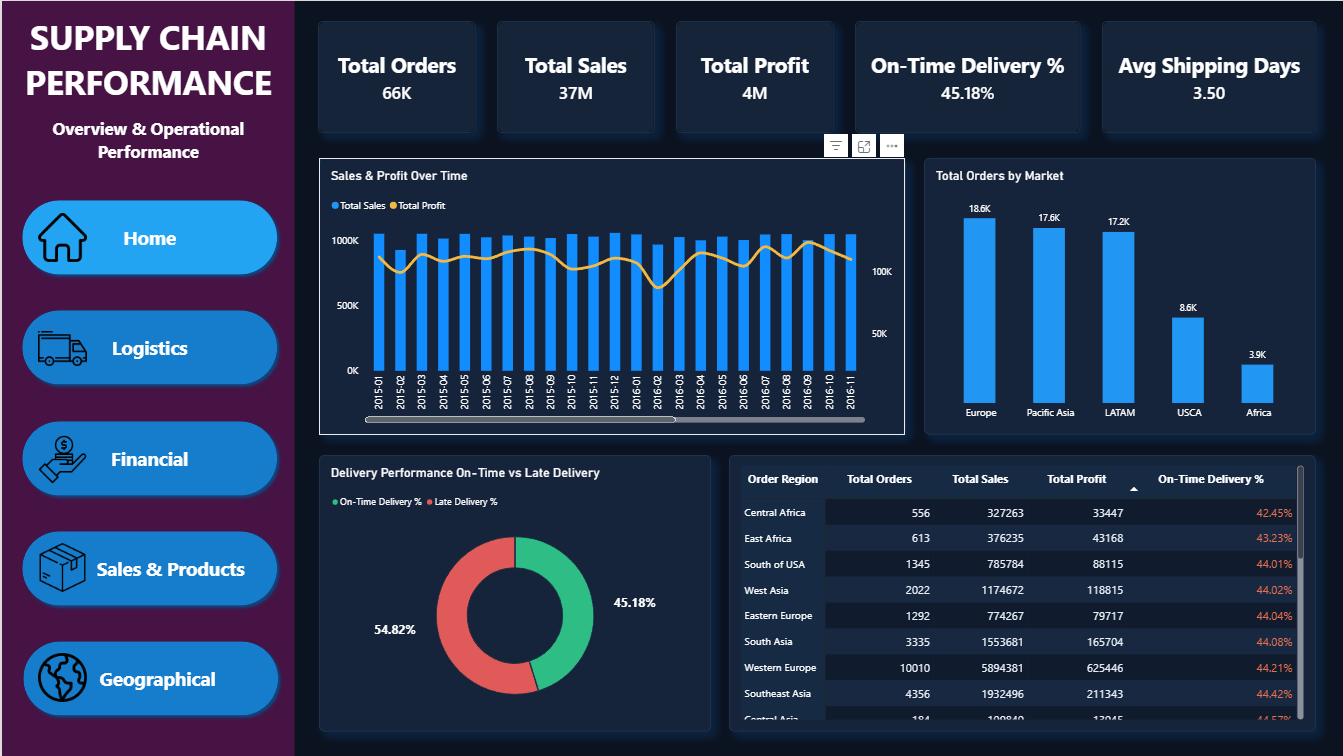

Layout of this report page (visuals, bound fields, positions):
{"tool":"powerbi","page":{"name":"Home","canvas":[1920,1080],"ordinal":0},"visuals":[{"type":"shape","box":[0,0,1920,1080],"z":0},{"type":"shape","box":[0,0,418,1080],"z":1000},{"type":"cardVisual","title":"Total Orders","fields":{"Data":["Medidas.Total Orders"]},"box":[452,28,225,160],"z":2000},{"type":"shape","box":[20,433.5,382,124],"z":2000,"group":"g1"},{"type":"shape","box":[20,591,382,124],"z":2000,"group":"g2"},{"type":"cardVisual","title":"Total Orders","fields":{"Data":["Medidas.Total Sales"]},"box":[707.8,28,225,160],"z":3000},{"type":"shape","box":[20,275.5,382,124],"z":3000,"group":"g5"},{"type":"shape","box":[20,748.5,382,124],"z":3000,"group":"g3"},{"type":"cardVisual","title":"Total Orders","fields":{"Data":["Medidas.Total Profit"]},"box":[963.5,28,225,160],"z":4000},{"type":"shape","box":[22,906,382,124],"z":4000,"group":"g4"},{"type":"cardVisual","title":"Total Orders","fields":{"Data":["Medidas.On-Time Delivery %"]},"box":[1219.2,28,322,160],"z":5000},{"type":"cardVisual","title":"Total Orders","fields":{"Data":["Medidas.Avg Shipping Days"]},"box":[1572,28,306,160],"z":6000},{"type":"textbox","box":[0,18,418,230],"z":7000},{"type":"group","id":"g1","title":"Grupo 2","box":[20,433.5,382,124],"z":8000},{"type":"group","id":"g2","title":"Grupo 3","box":[20,591,382,124],"z":9000},{"type":"group","id":"g3","title":"Grupo 4","box":[20,748.5,382,124],"z":10000},{"type":"image","box":[52,620,70,70],"z":11000,"group":"g2"},{"type":"group","id":"g4","title":"Grupo 5","box":[22,906,382,124],"z":11000},{"type":"lineStackedColumnComboChart","title":"Sales & Profit Over Time","fields":{"Category":["Calendar.Year Month"],"Y":["Medidas.Total Sales"],"Y2":["Medidas.Total Profit"]},"box":[452.4,224.4,838,395],"z":12000},{"type":"image","box":[52,302.5,70,70],"z":12000,"group":"g5"},{"type":"image","box":[52,462,70,70],"z":12000,"group":"g1"},{"type":"image","box":[52,932,70,70],"z":12000,"group":"g4"},{"type":"columnChart","title":"Total Orders by Market","fields":{"Category":["DataCoSupplyChainDataset.Market"],"Y":["Medidas.Total Orders"]},"box":[1317.4,224.4,560,395],"z":13000},{"type":"image","box":[52,774,70,70],"z":13000,"group":"g3"},{"type":"donutChart","title":"Delivery Performance On-Time vs Late Delivery","fields":{"Y":["Medidas.On-Time Delivery %","Medidas.Late Delivery %"]},"box":[452.4,647.9,560,395],"z":14000},{"type":"pivotTable","fields":{"Rows":["DataCoSupplyChainDataset.Order Region"],"Values":["Medidas.Total Orders","Medidas.Total Sales","Medidas.Total Profit","Medidas.On-Time Delivery %"]},"box":[1038.7,647.9,838,395],"z":15000},{"type":"group","id":"g5","title":"Grupo 1","box":[20,275.5,382,124],"z":16000}]}

Visuals, with their boxes in screenshot pixels (x1, y1, x2, y2), scaled from the page's 1920x1080 canvas onto the 1343x756 screenshot:
shape: (x1=0, y1=0, x2=1342, y2=755)
shape: (x1=0, y1=0, x2=292, y2=755)
"Total Orders" cardVisual: (x1=316, y1=20, x2=474, y2=132)
shape: (x1=14, y1=303, x2=281, y2=390)
shape: (x1=14, y1=414, x2=281, y2=500)
"Total Orders" cardVisual: (x1=495, y1=20, x2=652, y2=132)
shape: (x1=14, y1=193, x2=281, y2=280)
shape: (x1=14, y1=524, x2=281, y2=611)
"Total Orders" cardVisual: (x1=674, y1=20, x2=831, y2=132)
shape: (x1=15, y1=634, x2=283, y2=721)
"Total Orders" cardVisual: (x1=853, y1=20, x2=1078, y2=132)
"Total Orders" cardVisual: (x1=1100, y1=20, x2=1314, y2=132)
textbox: (x1=0, y1=13, x2=292, y2=174)
"Grupo 2" group: (x1=14, y1=303, x2=281, y2=390)
"Grupo 3" group: (x1=14, y1=414, x2=281, y2=500)
"Grupo 4" group: (x1=14, y1=524, x2=281, y2=611)
image: (x1=36, y1=434, x2=85, y2=483)
"Grupo 5" group: (x1=15, y1=634, x2=283, y2=721)
"Sales & Profit Over Time" lineStackedColumnComboChart: (x1=316, y1=157, x2=903, y2=434)
image: (x1=36, y1=212, x2=85, y2=261)
image: (x1=36, y1=323, x2=85, y2=372)
image: (x1=36, y1=652, x2=85, y2=701)
"Total Orders by Market" columnChart: (x1=921, y1=157, x2=1313, y2=434)
image: (x1=36, y1=542, x2=85, y2=591)
"Delivery Performance On-Time vs Late Delivery" donutChart: (x1=316, y1=454, x2=708, y2=730)
pivotTable - DataCoSupplyChainDataset.Order Region x Medidas.Total Orders: (x1=727, y1=454, x2=1313, y2=730)
"Grupo 1" group: (x1=14, y1=193, x2=281, y2=280)
